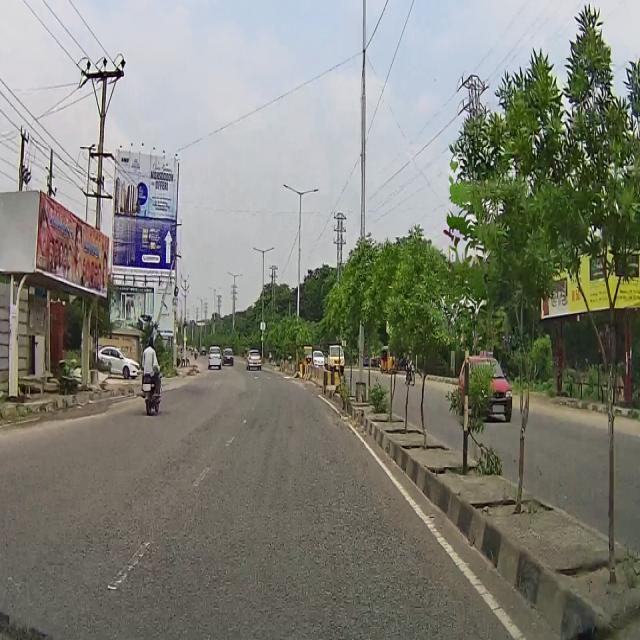motorcycle ahead at: (136, 368, 164, 421)
tree ahead at: (452, 53, 572, 532), (383, 227, 460, 450)
